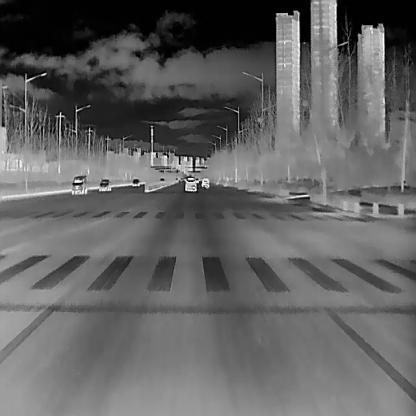car: (71, 174, 87, 195), (184, 176, 196, 191), (98, 177, 110, 190), (200, 176, 209, 188), (131, 177, 140, 186), (194, 176, 198, 182)
crosswalk: (1, 241, 416, 312), (0, 197, 377, 240)
